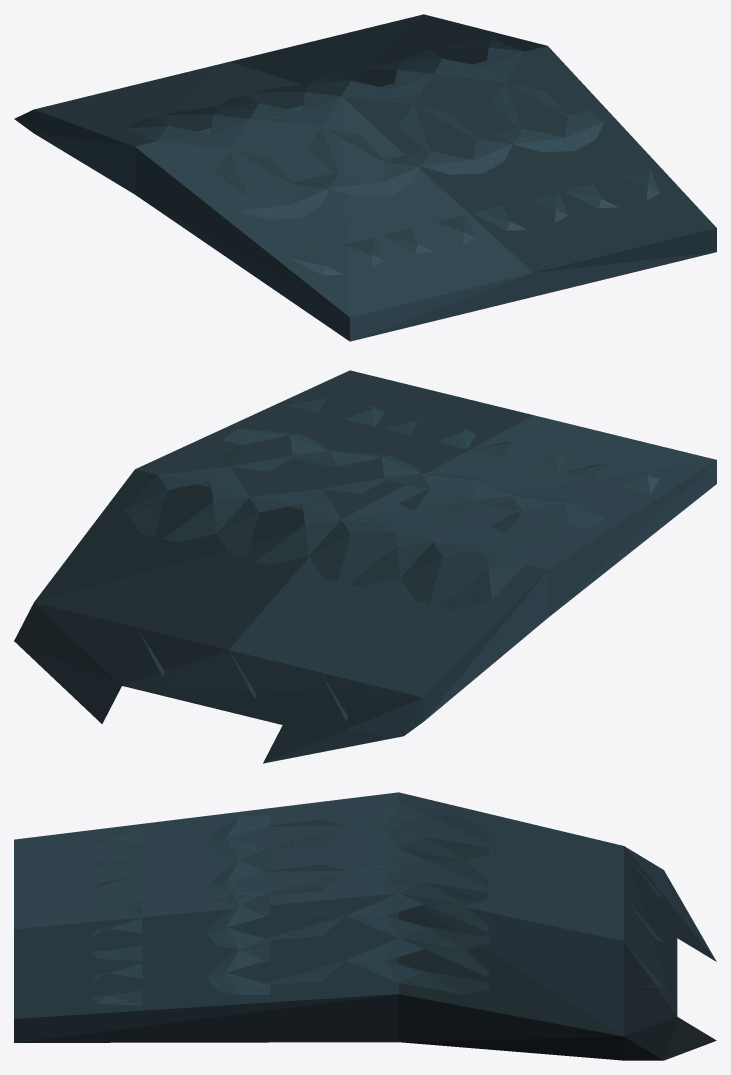
The model's file is runite-chainbody.obj.
The picture shows the model from 3 angles, top to bottom: view 1: azimuth 30°, elevation 25°; view 2: azimuth 150°, elevation 25°; view 3: azimuth 270°, elevation 25°; orthographic projection.
Visible parts, largest first — view 1: Item Rune chainbody 2026-09-24_18-19-33; view 2: Item Rune chainbody 2026-09-24_18-19-33; view 3: Item Rune chainbody 2026-09-24_18-19-33.
Boxes of the visible parts, bbox=[...] form: Item Rune chainbody 2026-09-24_18-19-33: bbox=[14, 14, 716, 341]; Item Rune chainbody 2026-09-24_18-19-33: bbox=[14, 370, 716, 763]; Item Rune chainbody 2026-09-24_18-19-33: bbox=[14, 792, 716, 1060].
Size of the model in its own units: 36 by 9 by 53.
